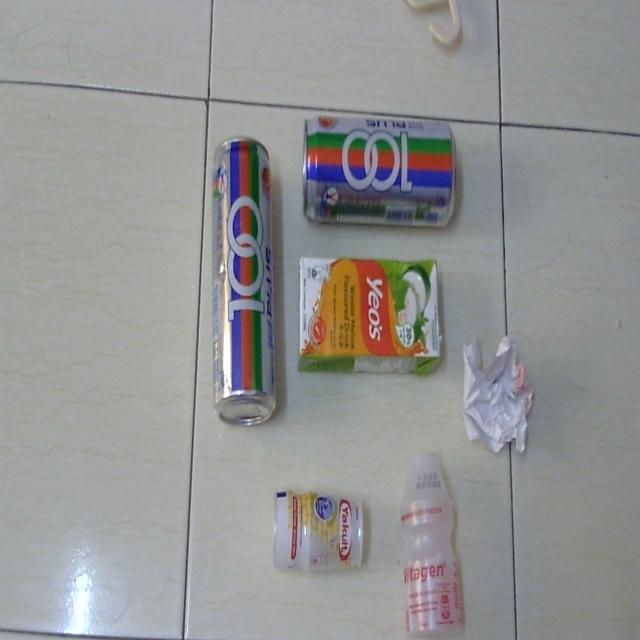metal_laydown_0rotation: (297, 107, 466, 234)
metal_laydown_90rotation: (209, 130, 283, 429)
paperrotation: (454, 329, 542, 454)
plastic_laydown_0rotation: (294, 246, 446, 376), (267, 480, 372, 574)
plastic_laydown_90rotation: (396, 444, 468, 638)
